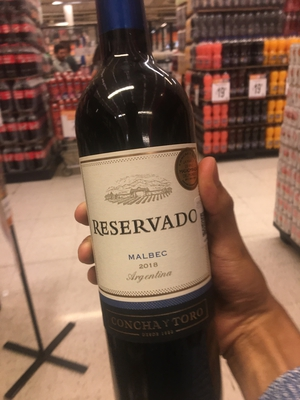reservado malbec: (75, 5, 222, 398)
